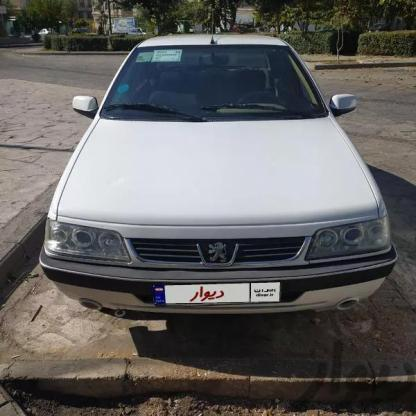Car: (37, 15, 396, 330)
